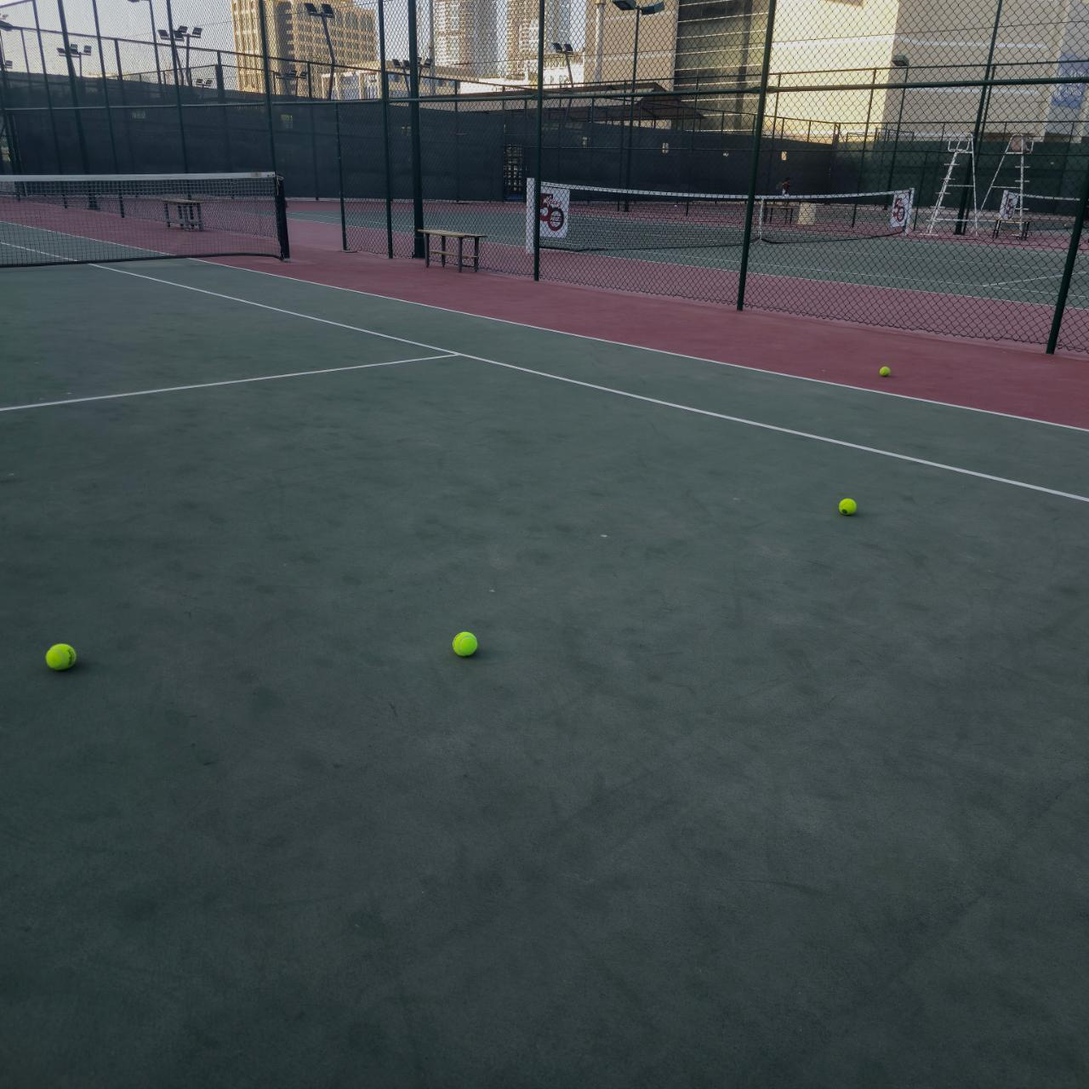tennis-ball: (43, 641, 77, 670), (450, 628, 478, 657), (837, 495, 857, 516), (879, 366, 890, 376)
